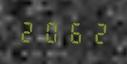six: (62, 19, 83, 44)
two: (18, 19, 39, 43), (84, 20, 105, 44)
zero: (40, 19, 61, 43)
